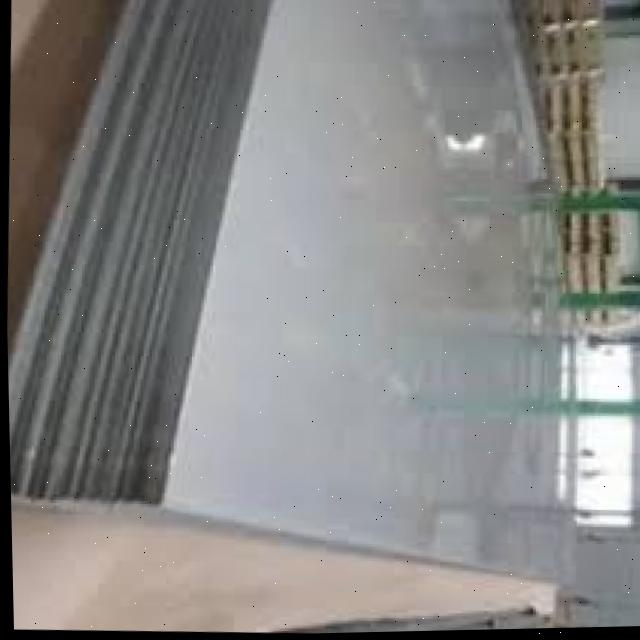Dry: (113, 0, 576, 585)
